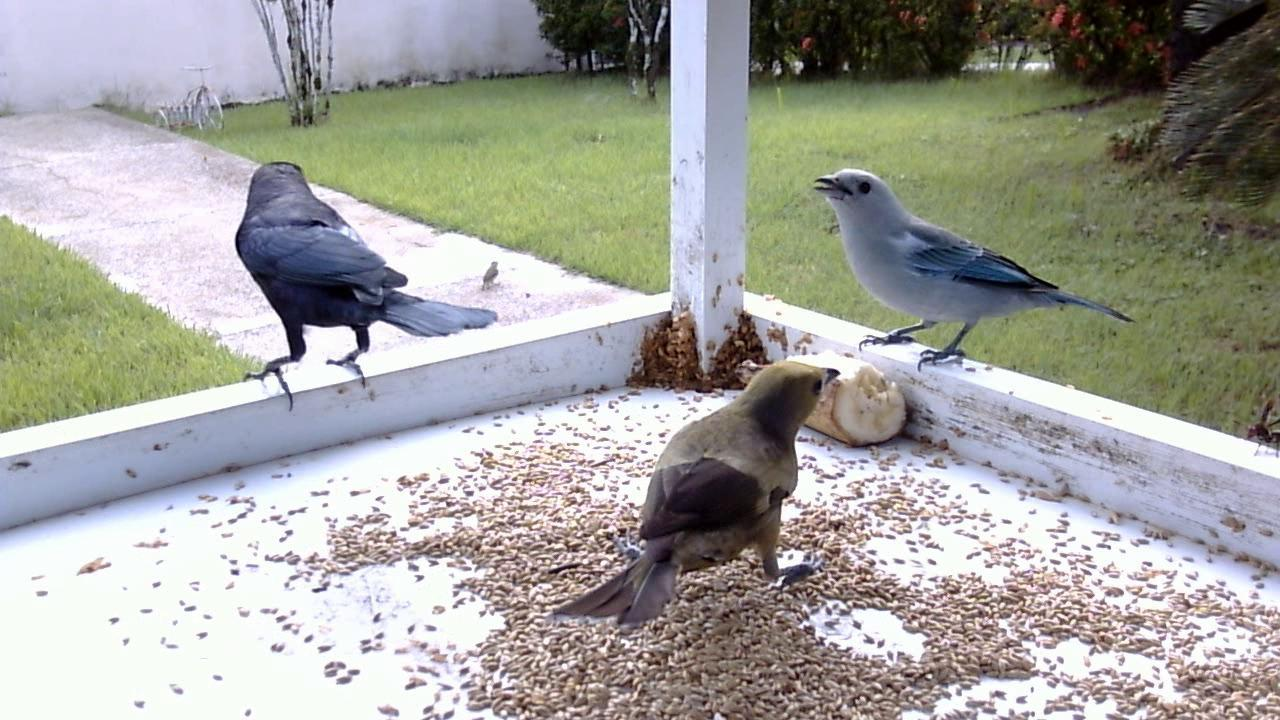chupim: (222, 155, 502, 422)
sanhaco_da_amazonia: (803, 163, 1130, 382)
sanhaco_do_coqueiro: (543, 359, 838, 628)
